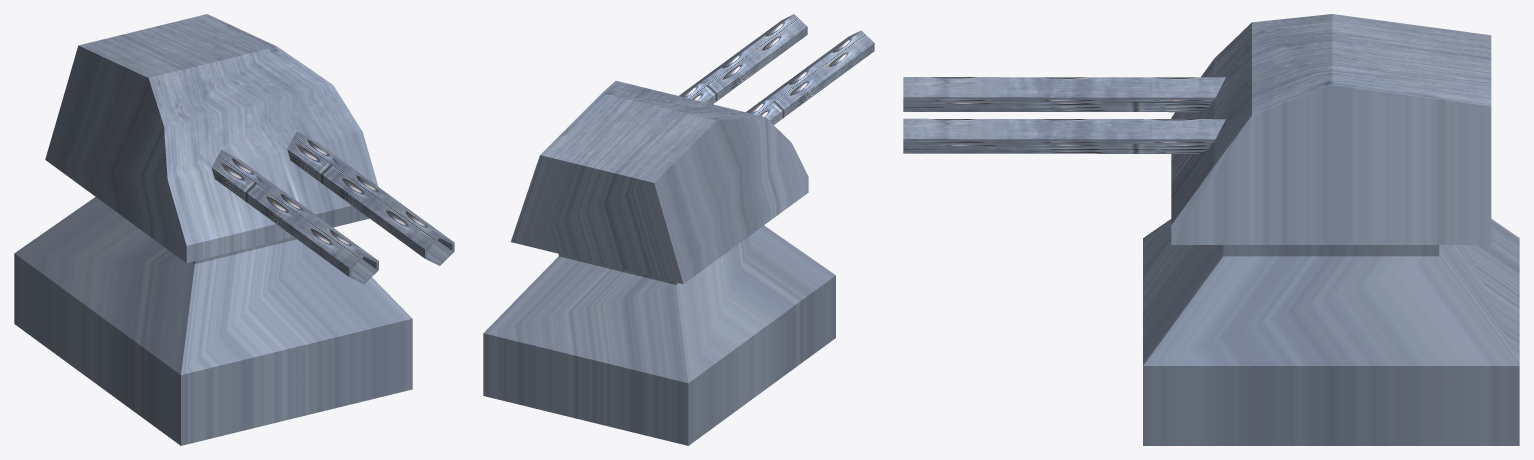
File: Turret.obj
The picture shows the model from 3 angles, left to right: view 1: azimuth 30°, elevation 25°; view 2: azimuth 150°, elevation 25°; view 3: azimuth 270°, elevation 25°; orthographic projection. The views are drawn at different scales.
Parts seen in each view (by area): view 1: Turret; view 2: Turret; view 3: Turret.
Boxes of the visible parts, <box> form: Turret: <box>14,14,454,445</box>; Turret: <box>483,14,874,445</box>; Turret: <box>903,14,1519,445</box>.
Size of the model in its own units: 2.45 by 2.98 by 5.
